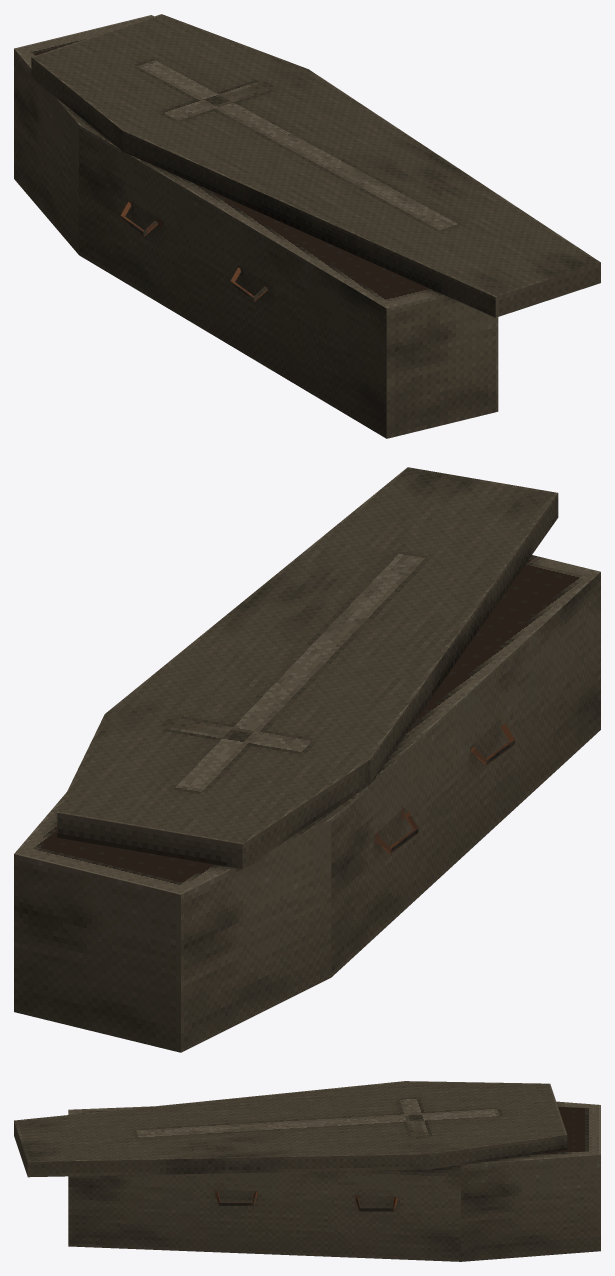
File: Coffin_01.glb
3 renders of one model, top to bottom at view 1: azimuth 30°, elevation 25°; view 2: azimuth 150°, elevation 25°; view 3: azimuth 270°, elevation 25°, orthographic. The views are drawn at different scales.
Visible parts, largest first — view 1: Coffin_01; view 2: Coffin_01; view 3: Coffin_01.
Part boxes in pixels (x1=…): Coffin_01: x1=14, y1=14, x2=600, y2=438; Coffin_01: x1=14, y1=467, x2=600, y2=1052; Coffin_01: x1=14, y1=1081, x2=600, y2=1261.
Bounding box in the file's own units: 0.7122 × 0.44 × 2.09.
1 material, 1 textured.
